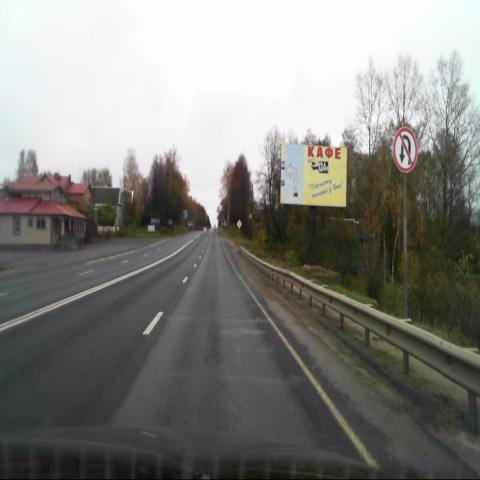3_19: (393, 129, 417, 173)
